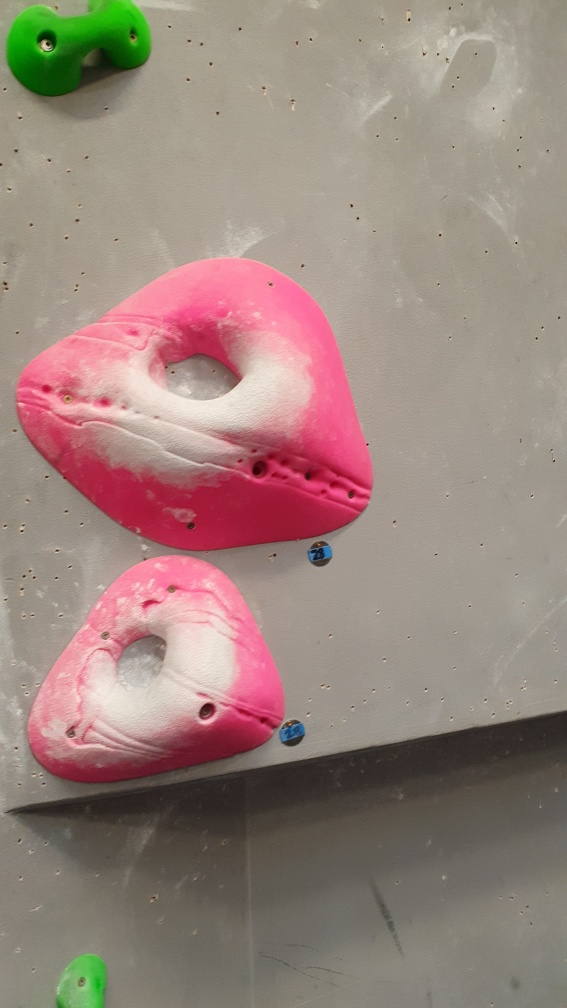Hand Start: (277, 713, 309, 753), (303, 535, 338, 571)
Pocket: (13, 251, 375, 556), (25, 559, 289, 784)
